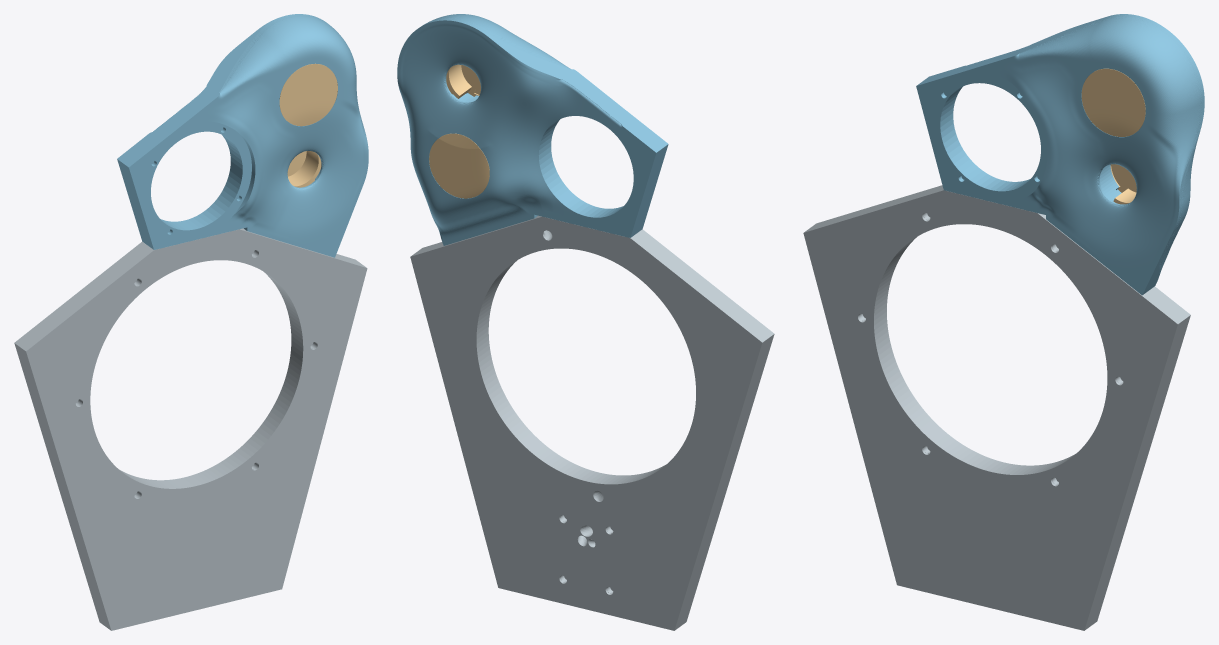
File: H2C_Dayton_ND25FN4_stock_tweeters_right_assembly.glb
3 views of the same model, side by side, from view 1: azimuth 30°, elevation 25°; view 2: azimuth 150°, elevation 25°; view 3: azimuth 330°, elevation 25° (orthographic). The views are drawn at different scales.
Parts seen in each view (by area): view 1: stock_lm_no_floor_stand, stock_nd25fn4_tweeters_right_upper, stock_nd25fn4_tweeters_right_cap_rear, stock_nd25fn4_tweeters_right_cap_front; view 2: stock_lm_no_floor_stand, stock_nd25fn4_tweeters_right_upper, stock_nd25fn4_tweeters_right_cap_front, stock_nd25fn4_tweeters_right_cap_rear; view 3: stock_lm_no_floor_stand, stock_nd25fn4_tweeters_right_upper, stock_nd25fn4_tweeters_right_cap_rear, stock_nd25fn4_tweeters_right_cap_front.
Part boxes in pixels (x1,y1,x2,y2): stock_lm_no_floor_stand: (14, 228, 367, 630); stock_nd25fn4_tweeters_right_upper: (117, 14, 368, 257); stock_nd25fn4_tweeters_right_cap_rear: (279, 63, 337, 126); stock_nd25fn4_tweeters_right_cap_front: (287, 151, 321, 187); stock_lm_no_floor_stand: (410, 215, 774, 630); stock_nd25fn4_tweeters_right_upper: (397, 14, 668, 245); stock_nd25fn4_tweeters_right_cap_front: (429, 133, 489, 198); stock_nd25fn4_tweeters_right_cap_rear: (446, 64, 480, 98); stock_lm_no_floor_stand: (803, 185, 1190, 630); stock_nd25fn4_tweeters_right_upper: (916, 14, 1204, 295); stock_nd25fn4_tweeters_right_cap_rear: (1081, 68, 1145, 136); stock_nd25fn4_tweeters_right_cap_front: (1110, 164, 1136, 204).
Size of the model in its own units: 0.3059 by 0.4694 by 0.0411.
